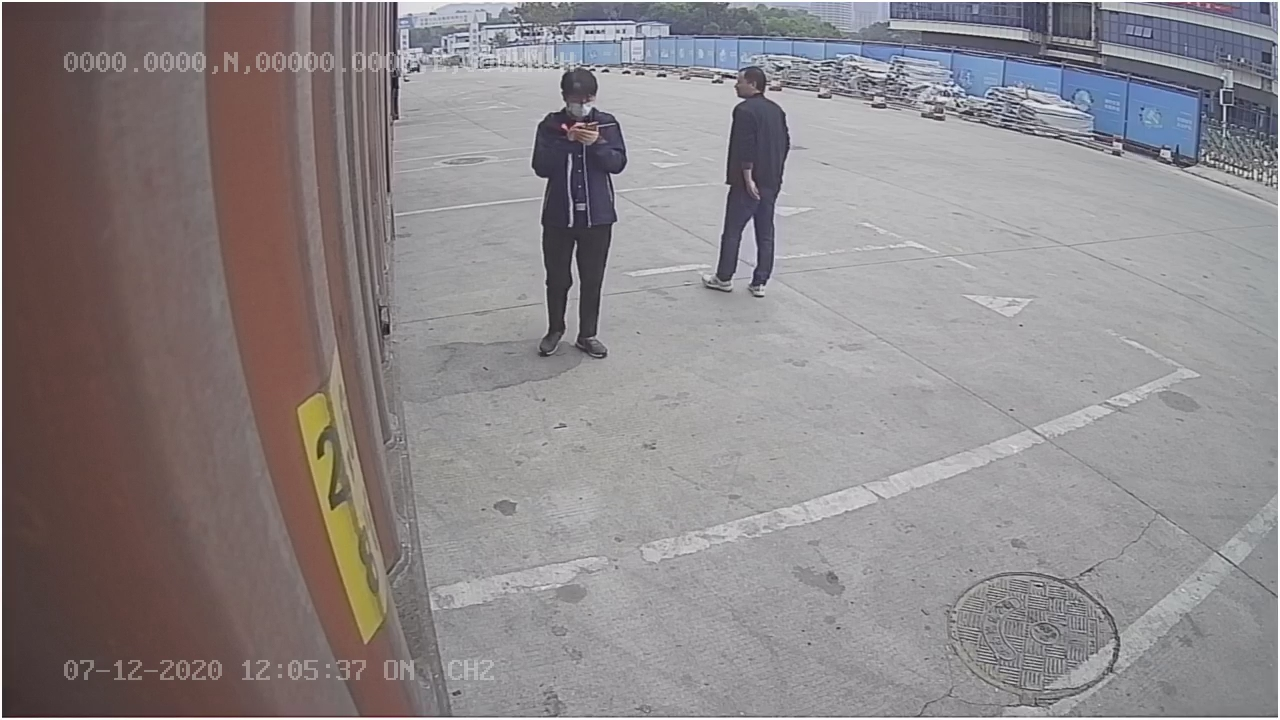person: (523, 62, 633, 362), (699, 64, 792, 298)
